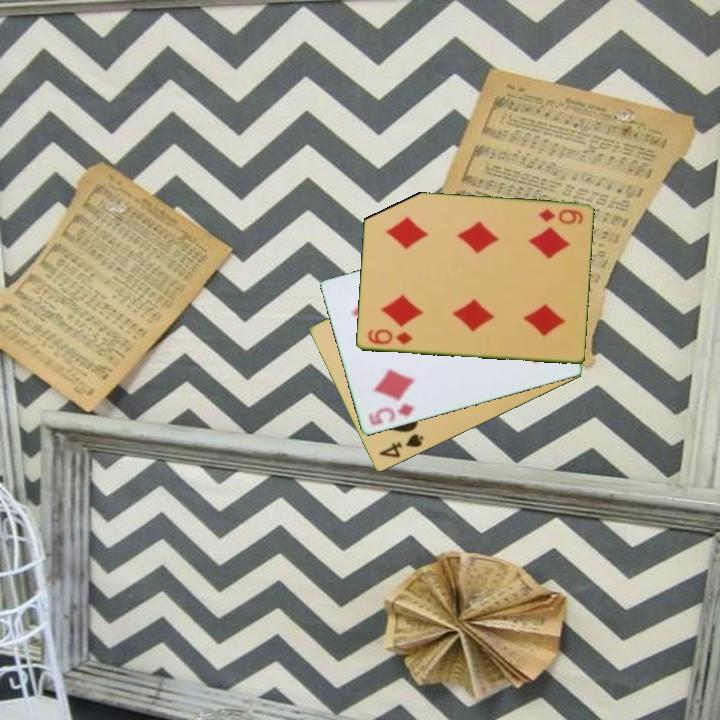4s: (375, 430, 426, 461)
5d: (365, 400, 417, 428)
6d: (364, 326, 415, 348), (535, 206, 586, 227)
